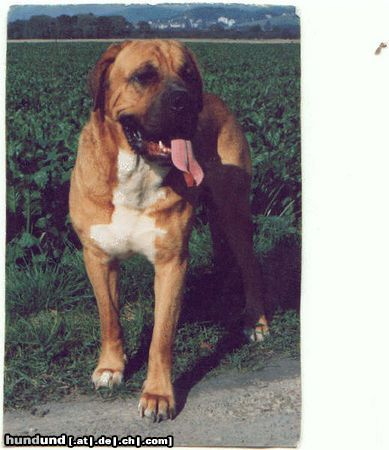tosa_inu: (68, 39, 270, 422)
